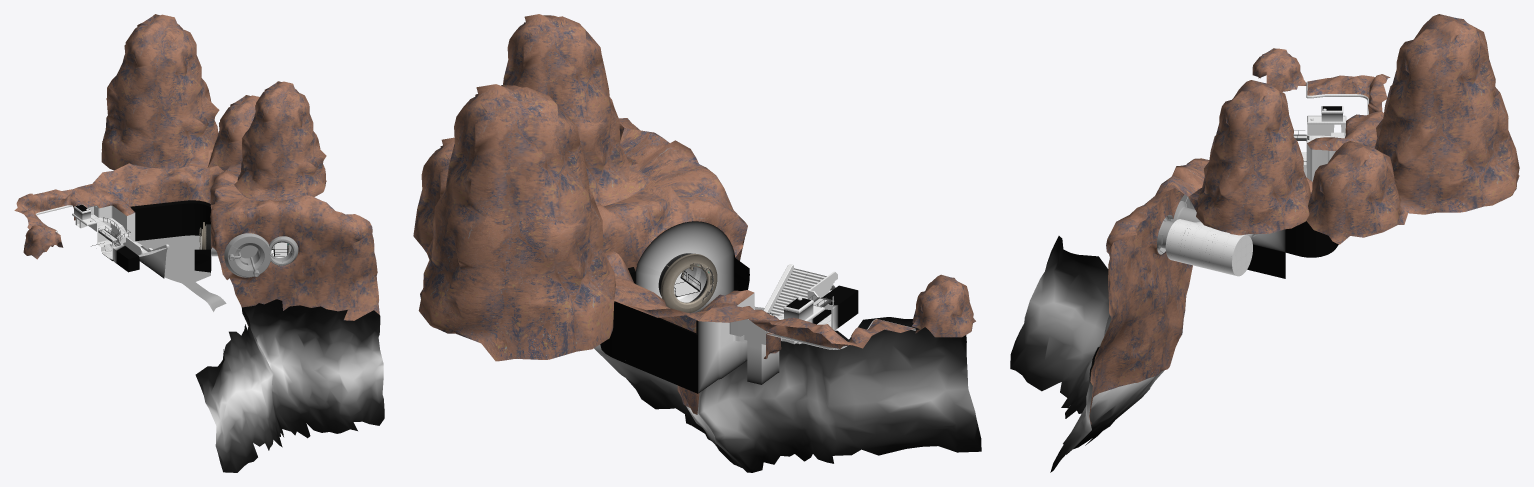
The model's file is StreetExtensionStructure.fbx.
The picture shows the model from 3 angles, left to right: view 1: azimuth 30°, elevation 25°; view 2: azimuth 150°, elevation 25°; view 3: azimuth 270°, elevation 25°; orthographic projection. The views are drawn at different scales.
Visible parts, largest first — view 1: DistanceCliffs, StreetCliffCloudBase, StreetCliff, StreetExteriorWall, CliffWater, TunnelGenerator, StreetAlleyEntrance, StreetFloors; view 2: DistanceCliffs, StreetCliffCloudBase, StreetCliff, StreetExteriorWall, TunnelDoorFrame, StreetAlleyEntrance, StreetMain, StreetFloors; view 3: DistanceCliffs, StreetCliff, StreetCliffCloudBase, TunnelInterior, StreetExteriorWall, TunnelGenerator, StreetRoofRim.
Boxes of the visible parts, <box> form: DistanceCliffs: <box>23,14,326,259</box>; StreetCliffCloudBase: <box>195,299,384,472</box>; StreetCliff: <box>14,163,379,326</box>; StreetExteriorWall: <box>87,200,211,278</box>; CliffWater: <box>136,235,226,311</box>; TunnelGenerator: <box>224,233,298,277</box>; StreetAlleyEntrance: <box>112,236,142,272</box>; StreetFloors: <box>77,214,166,256</box>; DistanceCliffs: <box>413,14,975,361</box>; StreetCliffCloudBase: <box>594,317,981,472</box>; StreetCliff: <box>596,118,914,414</box>; StreetExteriorWall: <box>600,221,793,393</box>; TunnelDoorFrame: <box>658,253,717,312</box>; StreetAlleyEntrance: <box>807,271,858,330</box>; StreetMain: <box>747,338,801,384</box>; StreetFloors: <box>741,268,832,342</box>; DistanceCliffs: <box>1188,14,1519,244</box>; StreetCliff: <box>1089,74,1390,424</box>; StreetCliffCloudBase: <box>1010,236,1164,472</box>; TunnelInterior: <box>1165,219,1258,276</box>; StreetExteriorWall: <box>1247,144,1338,278</box>; TunnelGenerator: <box>1157,194,1200,254</box>; StreetRoofRim: <box>1306,81,1368,124</box>.
Bounding box in the file's own units: 6870 × 7336 × 8020.
